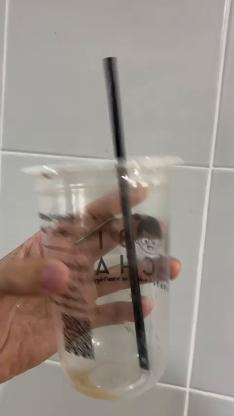Plastic Cup: (17, 154, 183, 400)
